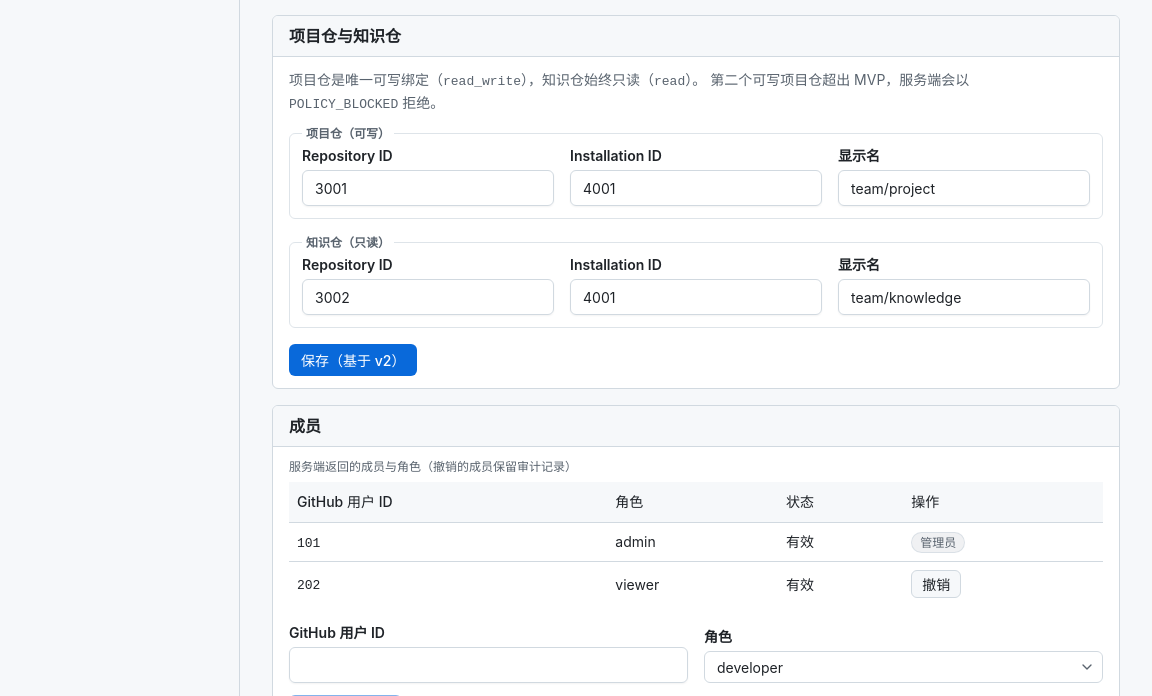
Test: workspace settings page › requires explicit re-confirmation on a version conflict and uses a fresh idempotency key
(page scrolled)
Click the button "保存（基于 v2）".
click(353, 360)  # box [289,344,417,376]
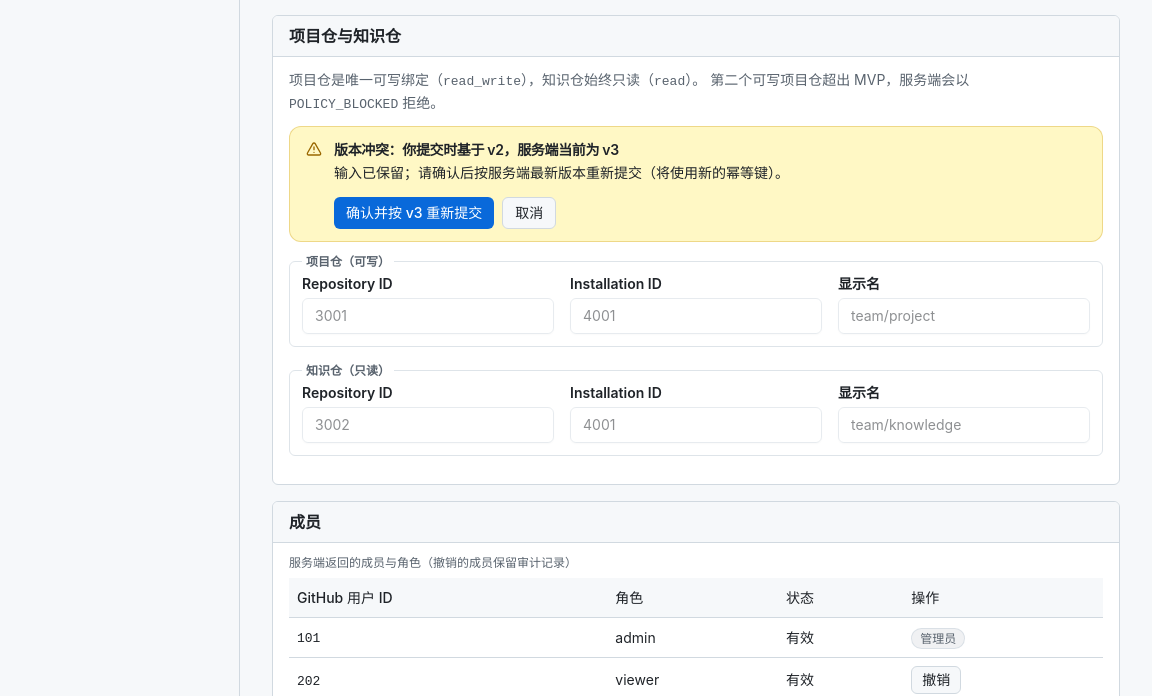
Expected: the field labelled "Repository ID" below "项目仓（可写）" holds "3001", [302,298,554,334]
Result: the heading "版本冲突：你提交时基于 v2，服务端当前为 v3" is shown at [334,141,619,158]
Click the button "确认并按 v3 重新提交".
click(414, 213)  # box [334,197,494,229]
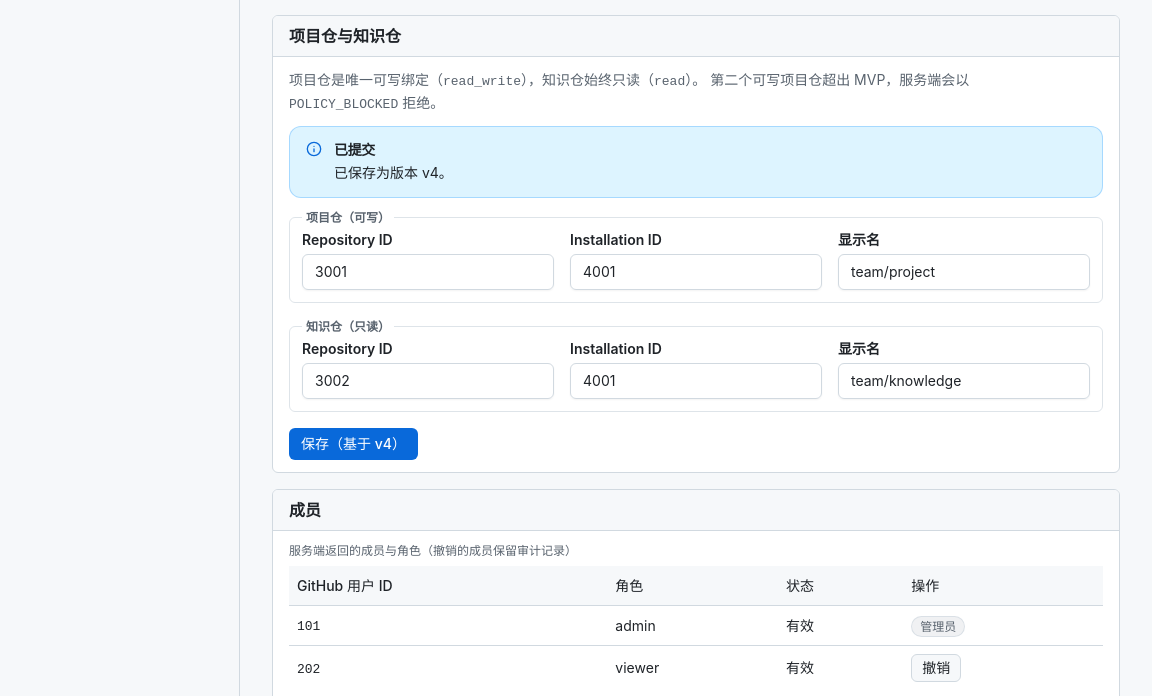
Result: the text "已保存为版本 v4。" is shown at [334,162,453,185]
